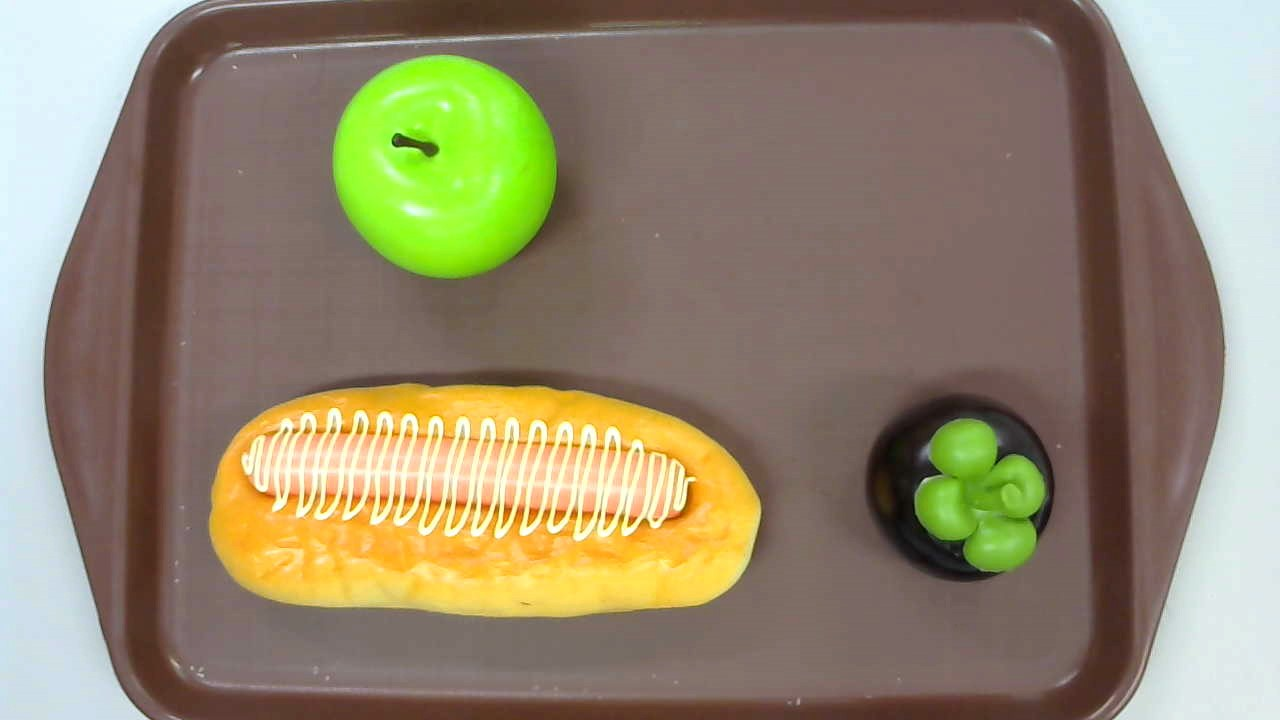green apple: (333, 53, 557, 281)
hot dog: (207, 380, 761, 619)
mangosteen: (864, 393, 1058, 584)
